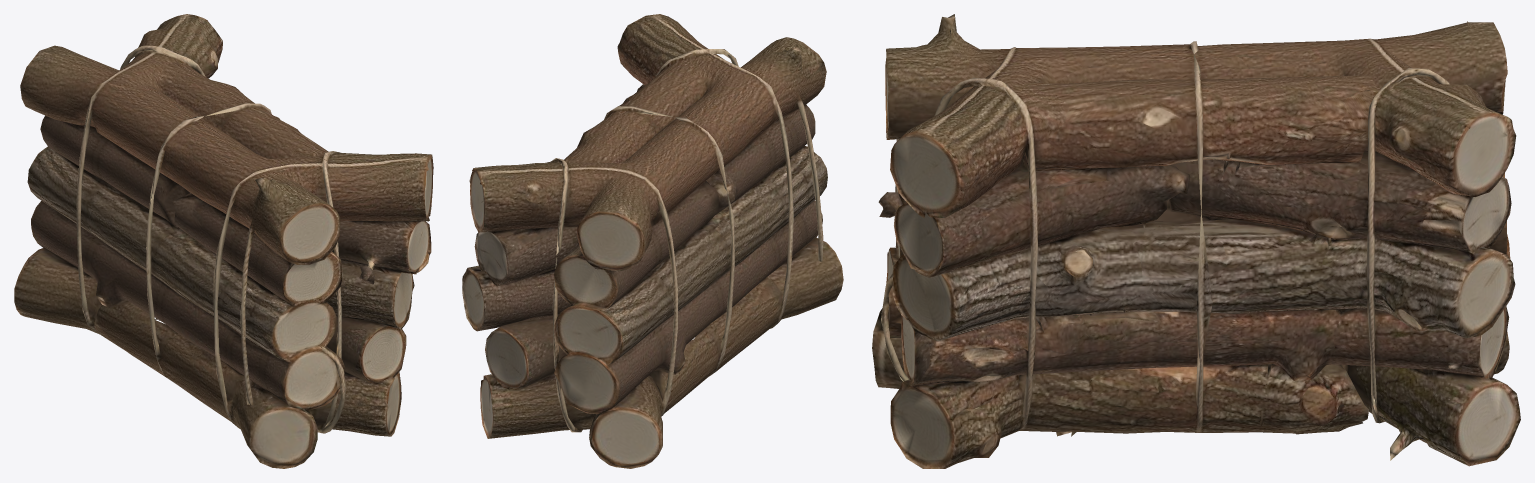
The model's file is troncos.glb.
3 renders of one model, left to right at view 1: azimuth 30°, elevation 25°; view 2: azimuth 150°, elevation 25°; view 3: azimuth 270°, elevation 25°, orthographic. The views are drawn at different scales.
Visible parts, largest first — view 1: tripo_node_0f8f4d0d-a379-4525-b277-a21f5d89f286; view 2: tripo_node_0f8f4d0d-a379-4525-b277-a21f5d89f286; view 3: tripo_node_0f8f4d0d-a379-4525-b277-a21f5d89f286.
Boxes of the visible parts, <box> form: tripo_node_0f8f4d0d-a379-4525-b277-a21f5d89f286: <box>14,14,433,468</box>; tripo_node_0f8f4d0d-a379-4525-b277-a21f5d89f286: <box>462,14,843,468</box>; tripo_node_0f8f4d0d-a379-4525-b277-a21f5d89f286: <box>872,14,1520,468</box>.
Size of the model in its own units: 0.562 by 0.6409 by 1.01.
1 material, 1 textured.
